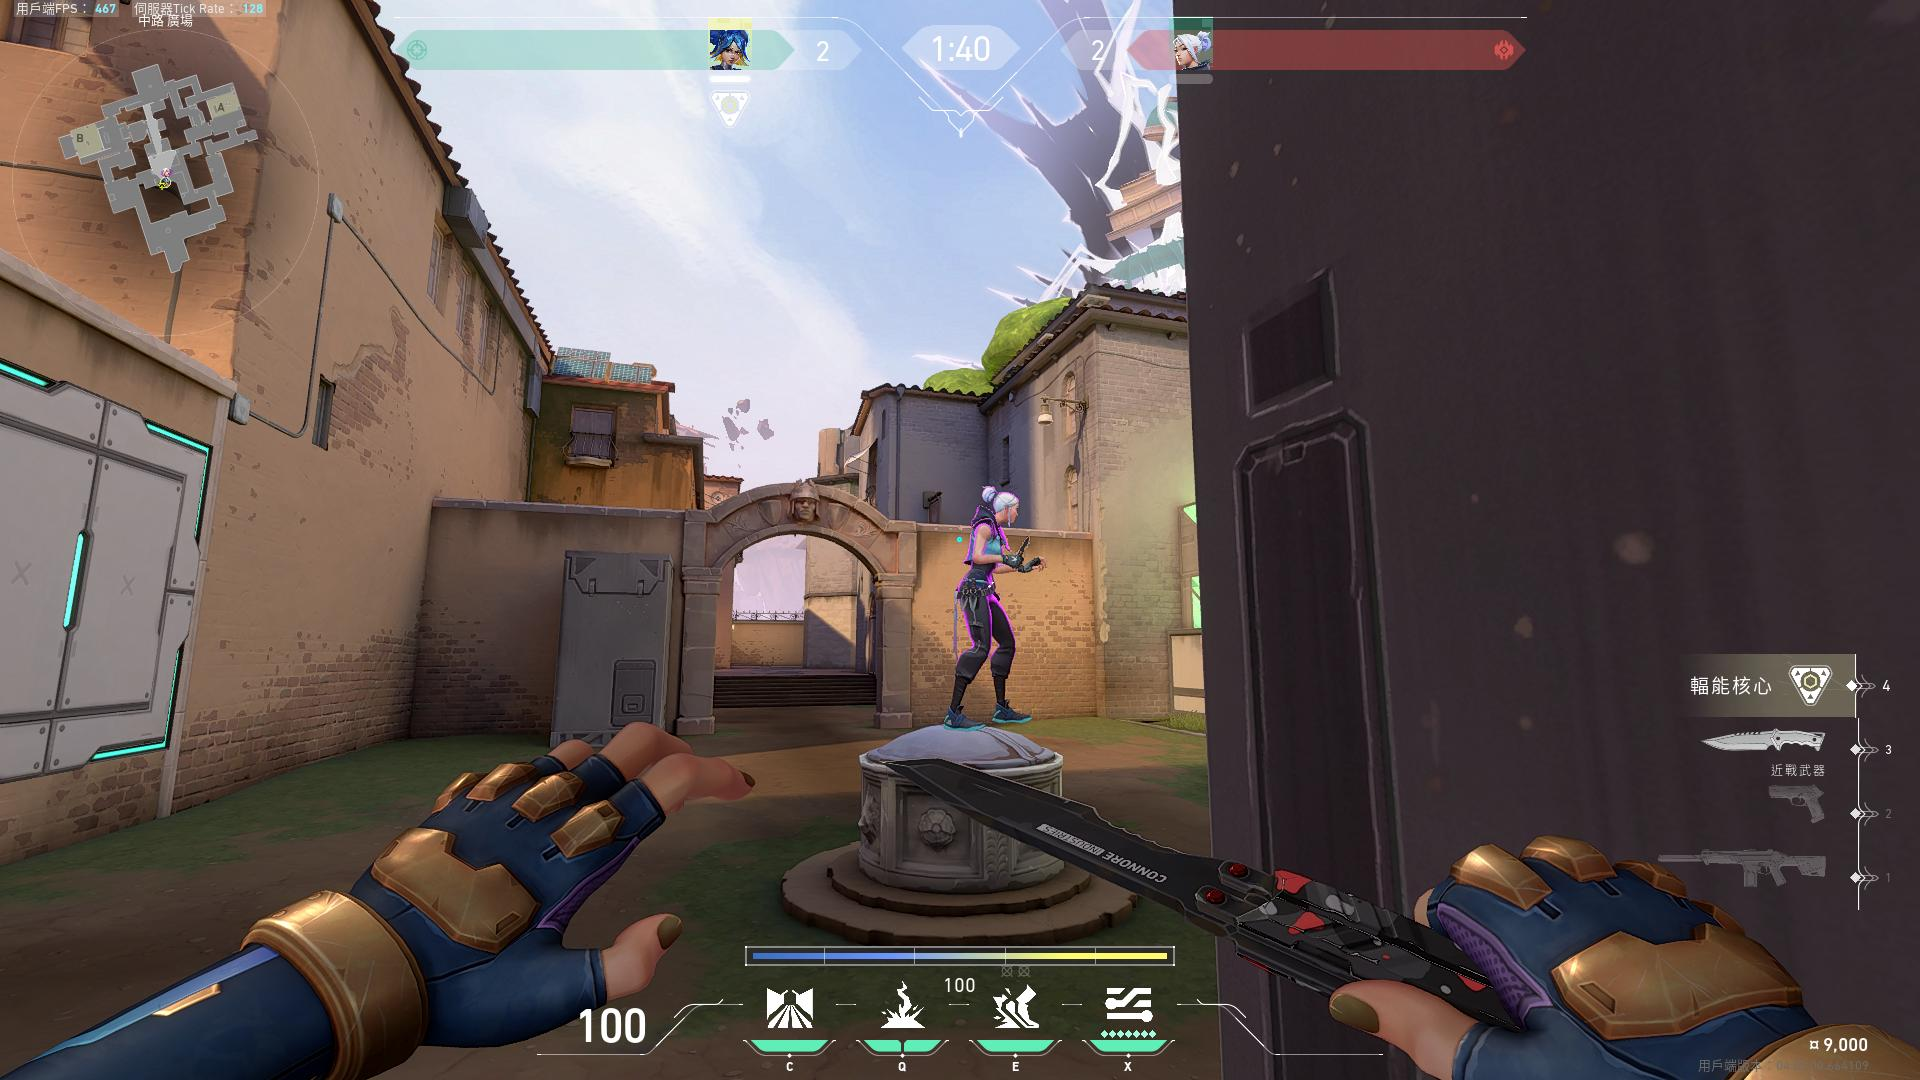enemyBody: (975, 530, 998, 595)
enemyHead: (997, 500, 1015, 520)
